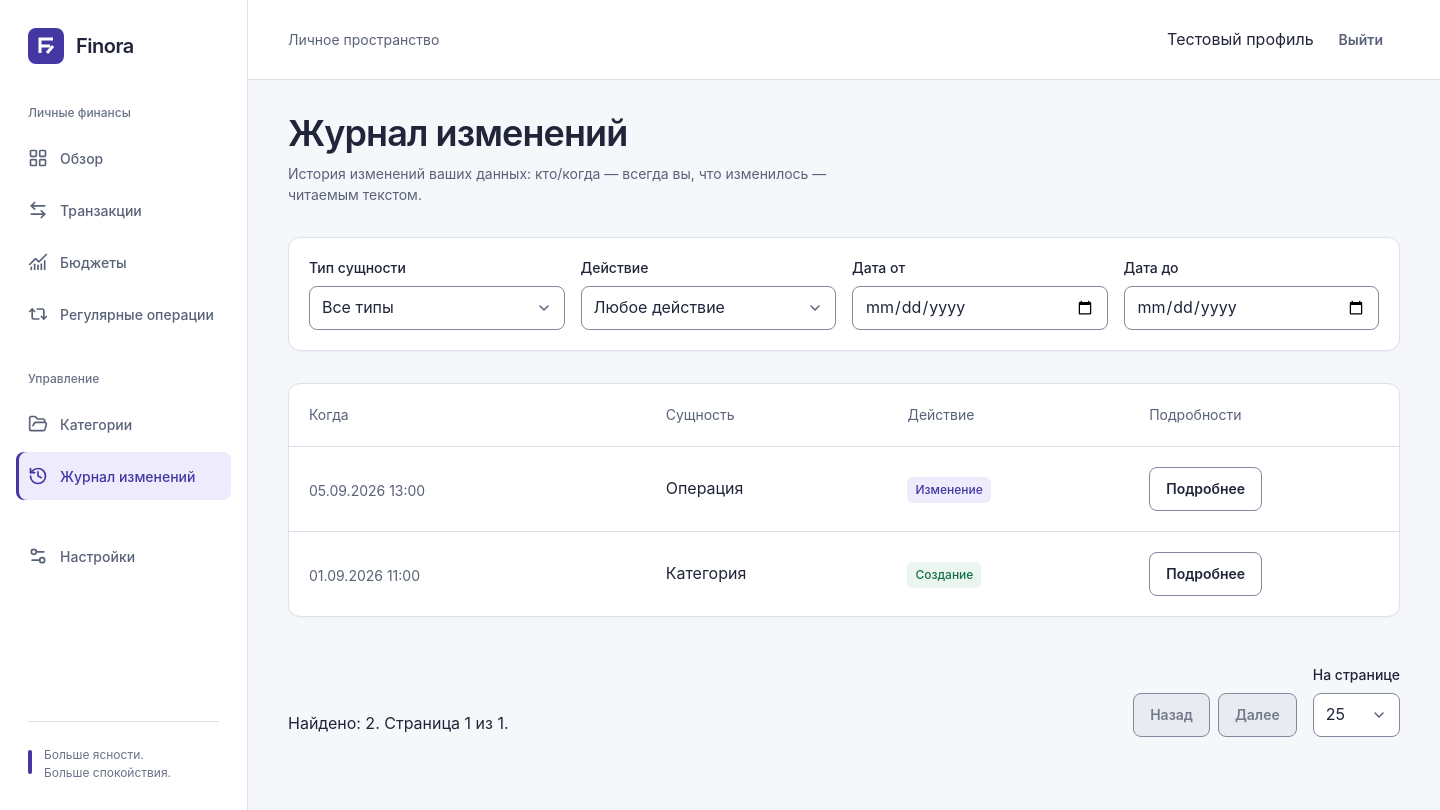
Журнал изменений: деталь UPDATE — только изменённые поля, читаемый diff
Expected: the text "Категория" is shown, [666,563,746,583]
Note: Первая строка — самая новая (UPDATE), согласно newest-first порядку ответа.
Click the button "Подробнее" in the row of "05.09.2026 13:00" at [1206, 489], box [1149,467,1262,511]
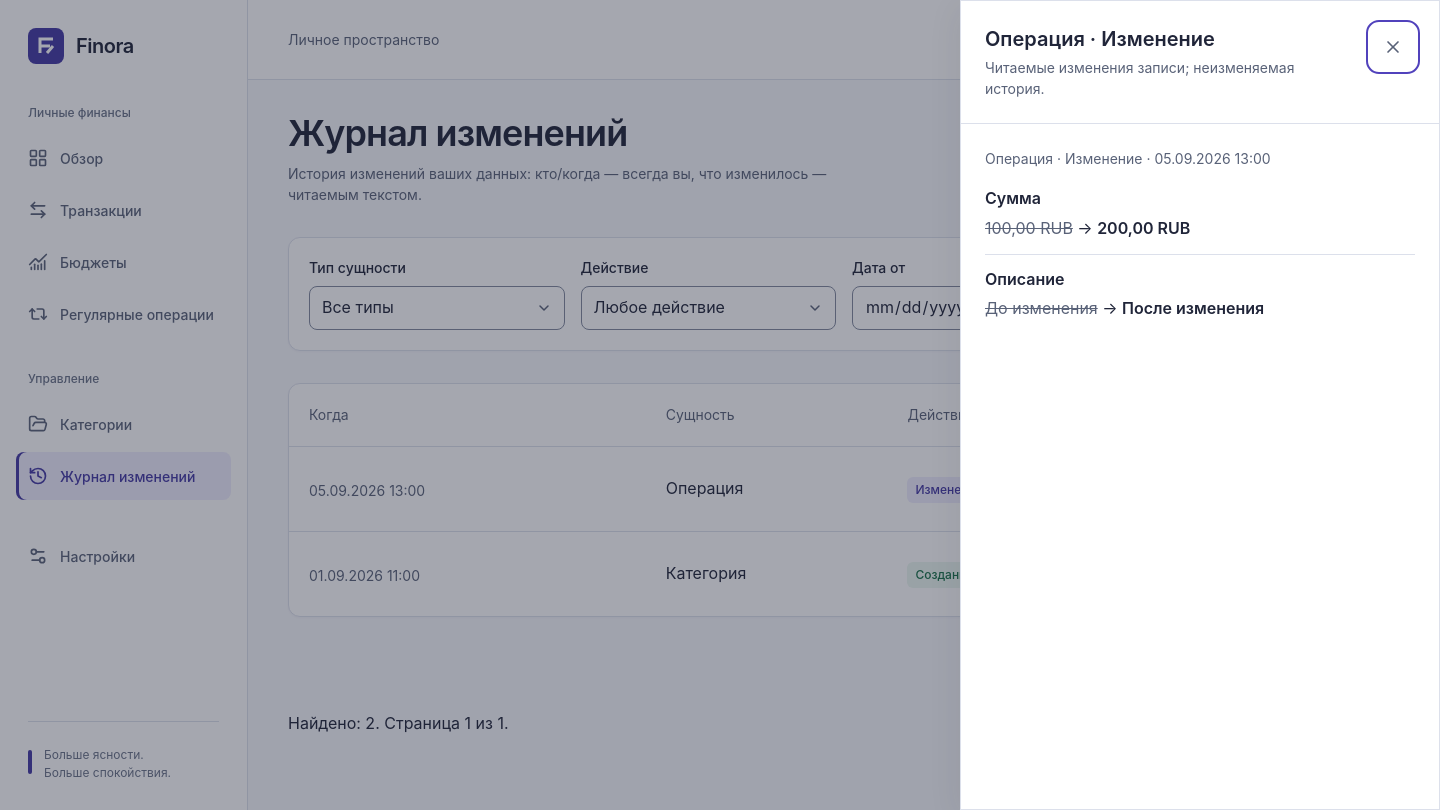
Expected: the text "100,00 RUB" is shown, [985,218,1073,238]
Expected: the text "200,00 RUB" is shown, [1097,218,1190,238]
Expected: the text "До изменения" is shown, [985,298,1098,318]
